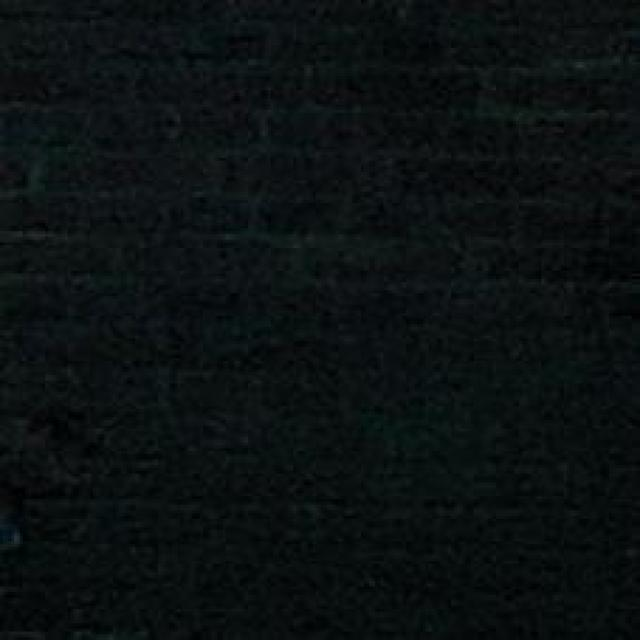Crack: (385, 0, 639, 218)
